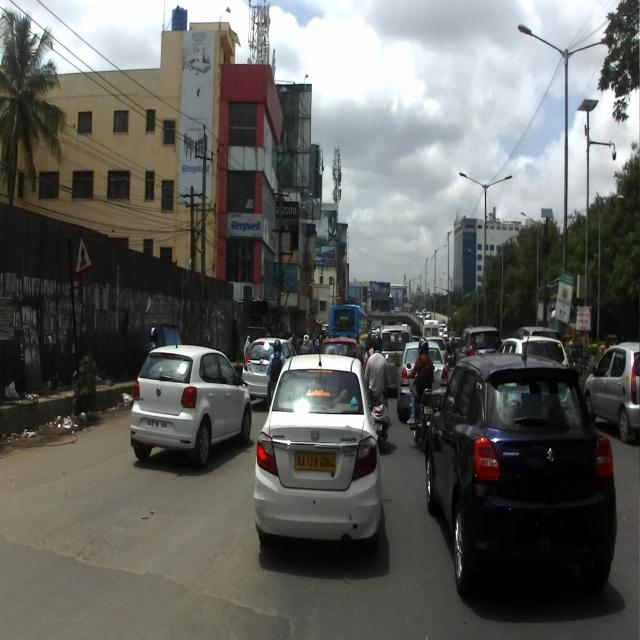car: (423, 336, 617, 602), (254, 328, 382, 552), (129, 322, 252, 470)
motorcycle: (405, 362, 434, 452)
scooter: (364, 352, 390, 455)
